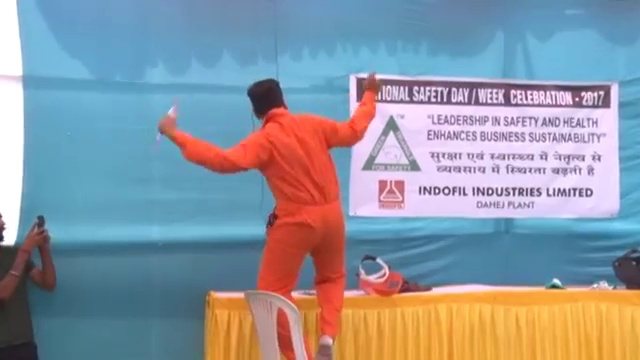helmet_off: (247, 77, 289, 122)
person: (154, 74, 382, 360), (1, 210, 63, 358)
